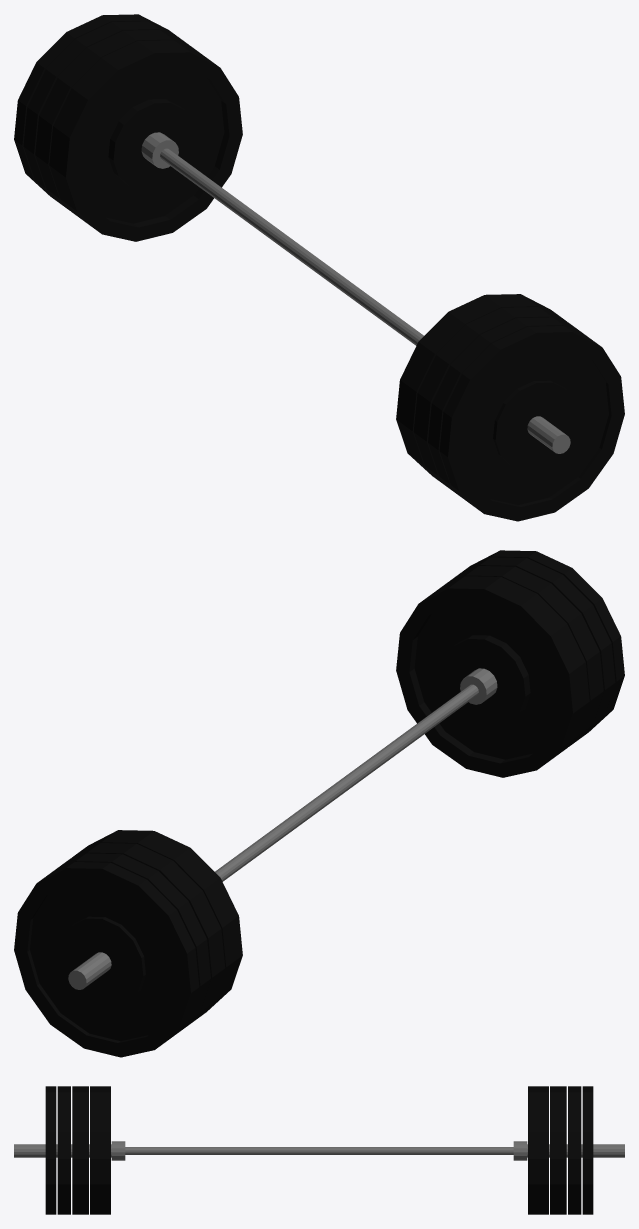
The model's file is Barbell.001.fbx.
The picture shows the model from 3 angles, top to bottom: view 1: azimuth 30°, elevation 25°; view 2: azimuth 150°, elevation 25°; view 3: azimuth 270°, elevation 25°; orthographic projection. The views are drawn at different scales.
Parts seen in each view (by area): view 1: Barbell.001; view 2: Barbell.001; view 3: Barbell.001.
Part boxes in pixels (x1,y1,x2,y2): Barbell.001: (14, 14, 624, 521); Barbell.001: (14, 550, 624, 1057); Barbell.001: (14, 1086, 624, 1214).
Bounding box in the file's own units: 44.52 × 44.28 × 211.
